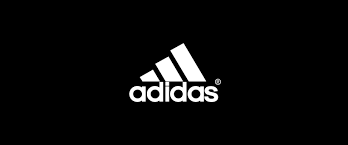adidas: (128, 41, 222, 105)
